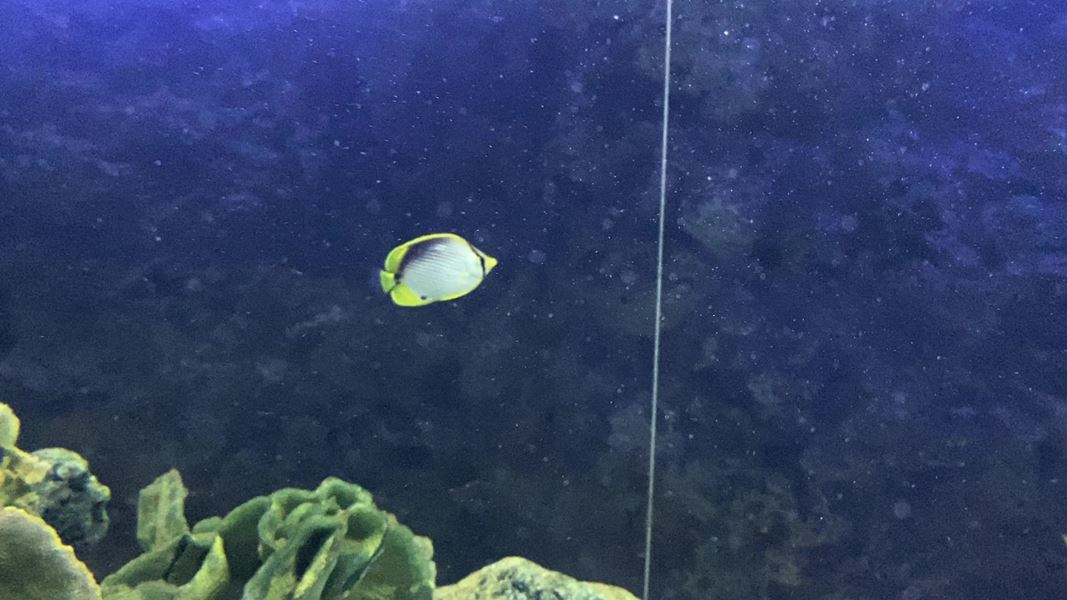Black-backed butterflyfish: (363, 224, 509, 317)
